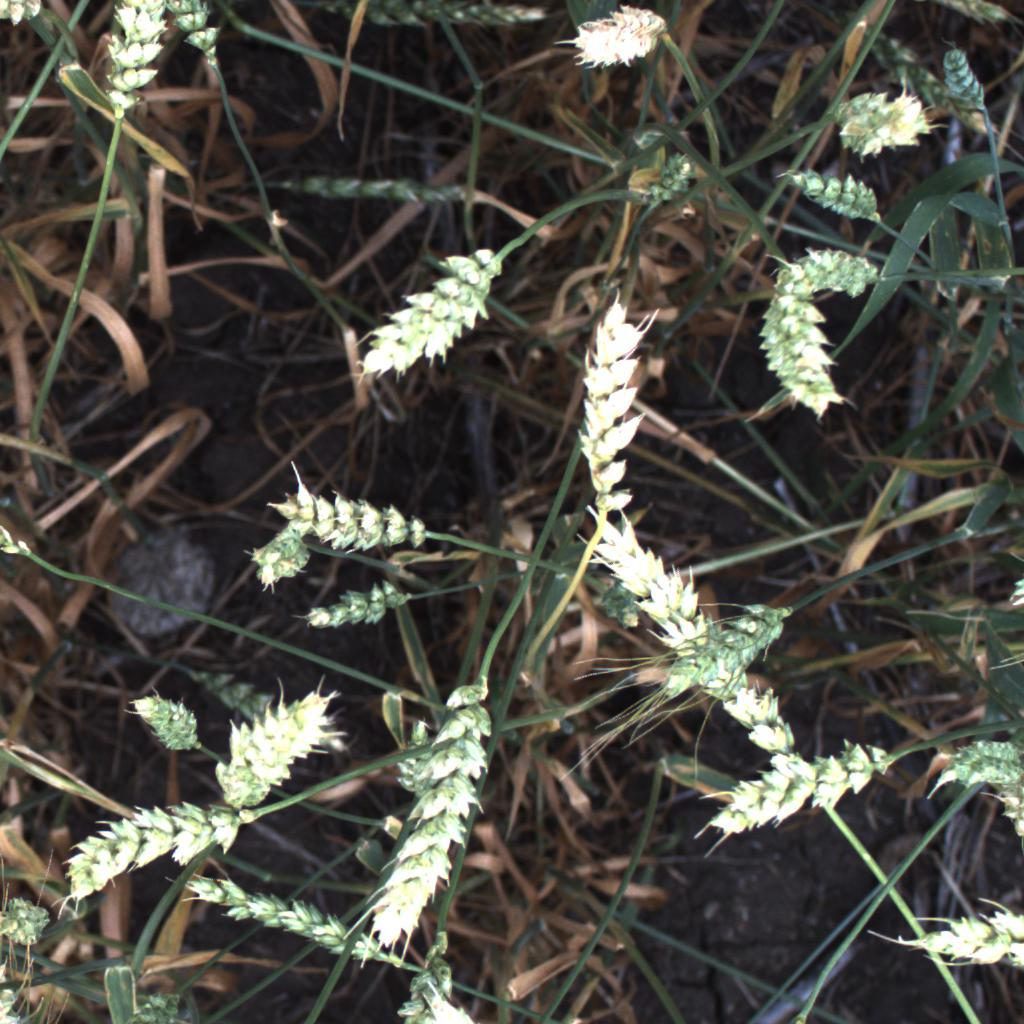0-0: (577, 516, 808, 778), (350, 664, 513, 958), (340, 222, 514, 399), (698, 732, 899, 864), (562, 262, 660, 532), (165, 862, 397, 971), (53, 788, 267, 899), (741, 259, 864, 433), (641, 593, 815, 710), (211, 683, 338, 807), (258, 486, 452, 560), (808, 67, 940, 160), (866, 901, 1024, 971), (369, 688, 447, 827), (780, 163, 906, 239), (90, 0, 167, 123), (297, 577, 423, 647), (614, 132, 704, 224), (771, 239, 891, 305), (397, 925, 478, 1022), (561, 7, 670, 75), (921, 720, 1019, 787), (133, 690, 214, 763), (236, 516, 310, 592), (933, 43, 999, 126), (975, 739, 1024, 840), (162, 0, 225, 72), (0, 892, 60, 963), (0, 513, 43, 567), (0, 0, 54, 35), (636, 0, 729, 2)
